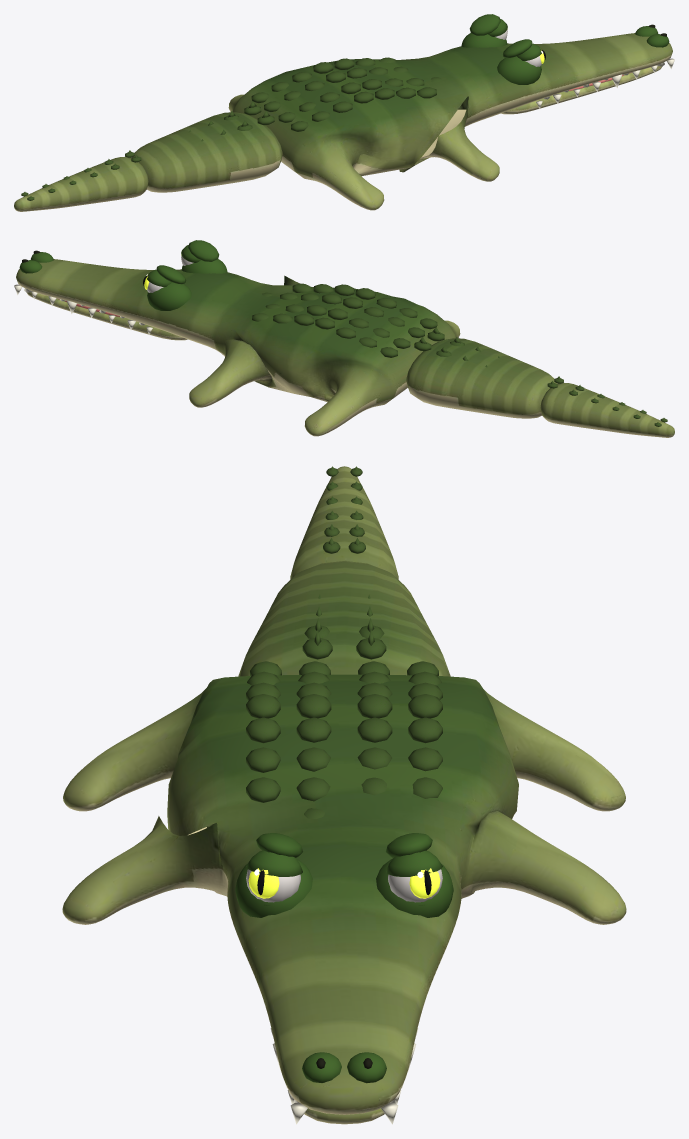
Rendered from croc.glb.
The picture shows the model from 3 angles, top to bottom: view 1: azimuth 30°, elevation 25°; view 2: azimuth 150°, elevation 25°; view 3: azimuth 270°, elevation 25°; orthographic projection. The views are drawn at different scales.
Parts seen in each view (by area): view 1: body, tail1, tail2, jaw; view 2: body, tail1, tail2, jaw; view 3: body, tail1, tail2.
Part boxes in pixels (box(x1,y1,x2,y2)): body: box(228, 14, 674, 210); tail1: box(131, 101, 282, 192); tail2: box(14, 150, 148, 211); jaw: box(501, 62, 664, 114); body: box(14, 240, 460, 436); tail1: box(406, 327, 557, 418); tail2: box(540, 376, 674, 437); jaw: box(24, 288, 187, 340); body: box(62, 661, 626, 1124); tail1: box(238, 561, 450, 676); tail2: box(290, 466, 398, 579).
Bounding box in the file's own units: 3.72 × 0.4513 × 1.39.
5 materials, 5 textured.
